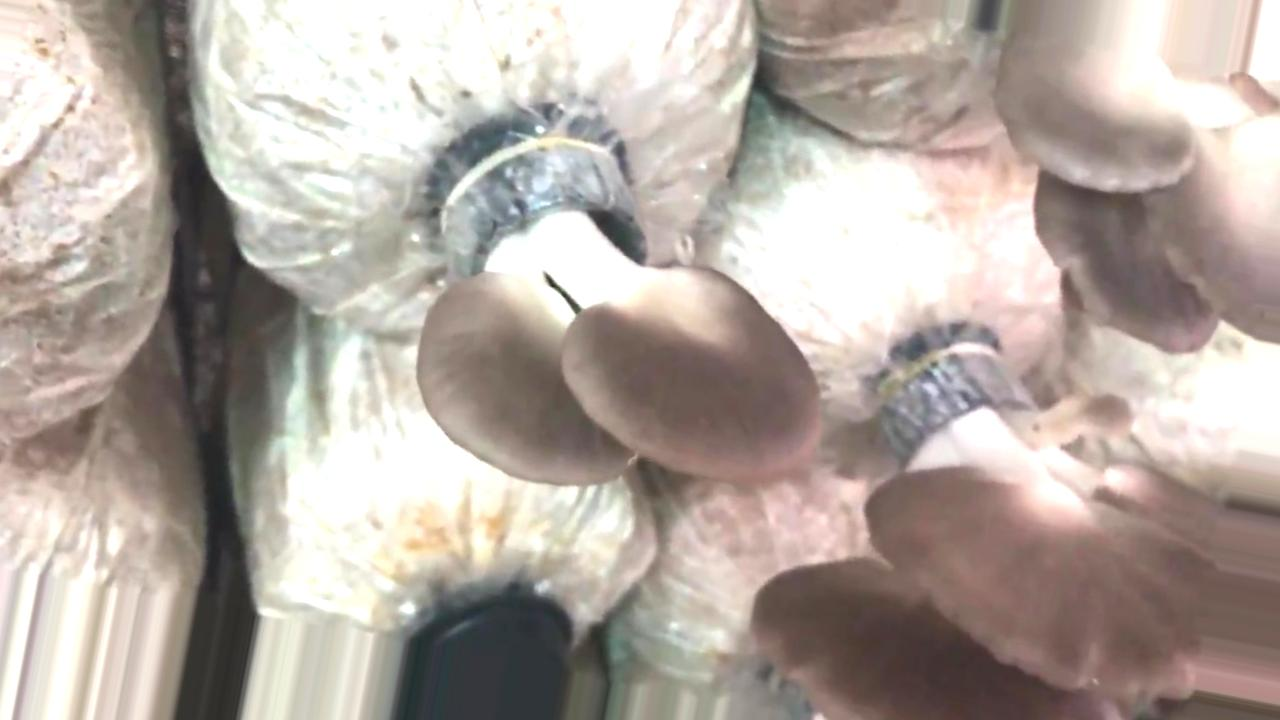nam: (749, 341, 1280, 718), (408, 138, 816, 495), (992, 1, 1279, 359)
